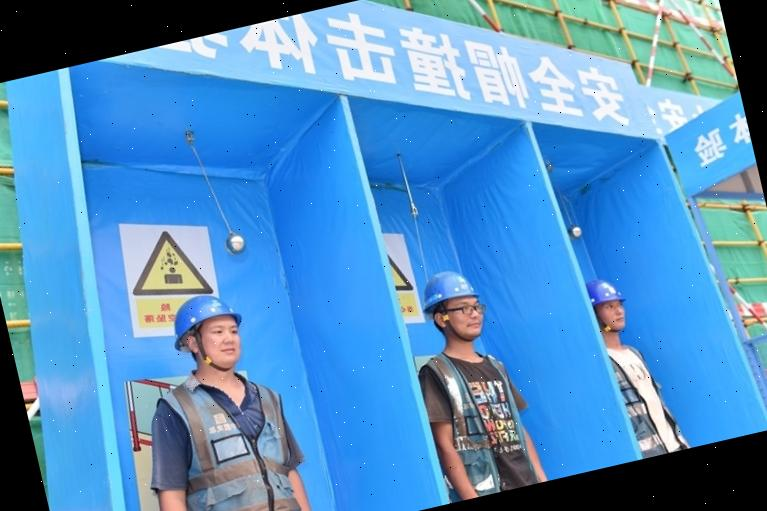helmet: (156, 285, 241, 342), (416, 264, 478, 310), (586, 274, 625, 308)
wear: (153, 367, 309, 511), (418, 342, 541, 502), (610, 336, 677, 457)
